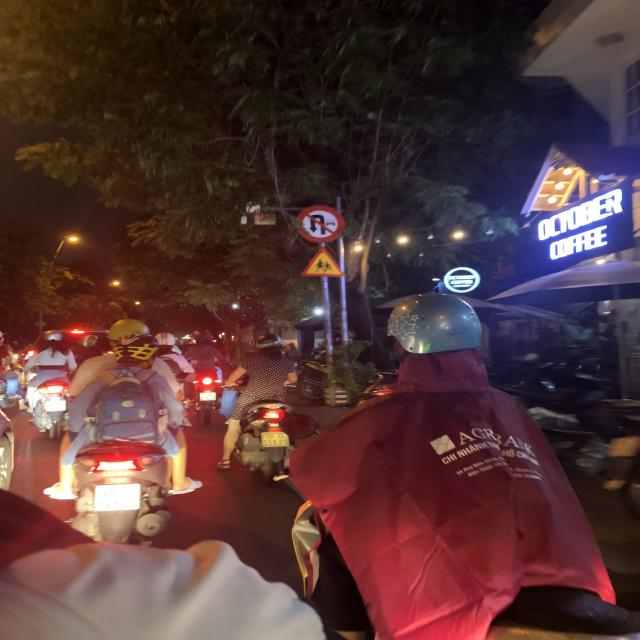Bien bao cam quay dau xe: (292, 204, 351, 246)
Bien bao tre em: (296, 244, 351, 279)
